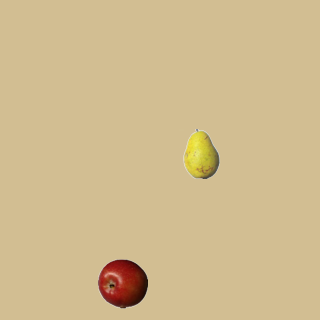Apple Braeburn: (97, 258, 147, 308)
Pear Monster: (176, 128, 226, 178)
